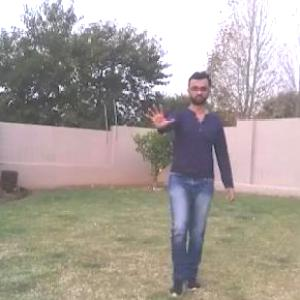follow_hand: (140, 100, 178, 132)
